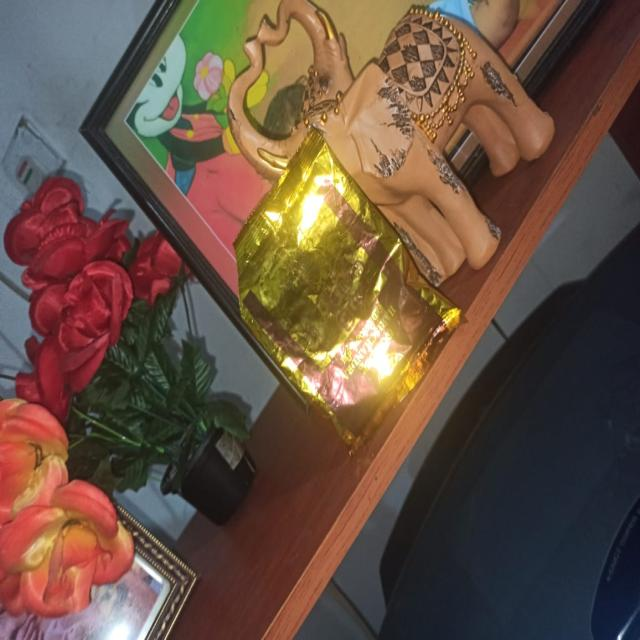Harischandra Coffee: (223, 197, 465, 437)
